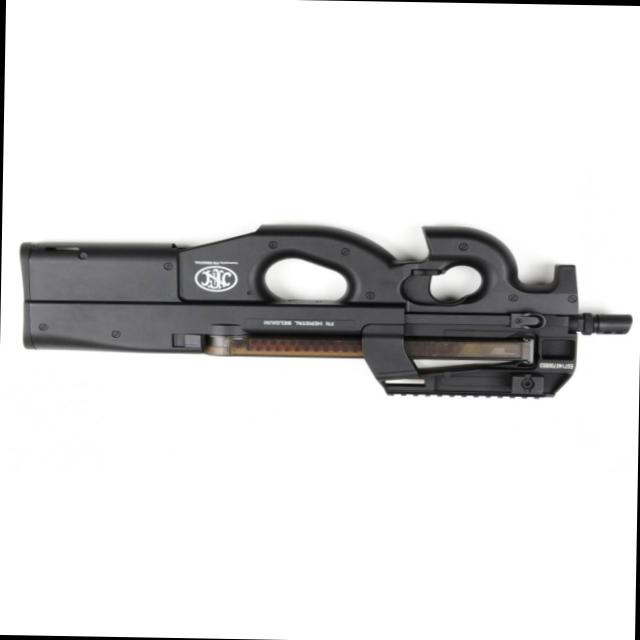Gun: (1, 187, 640, 420)
